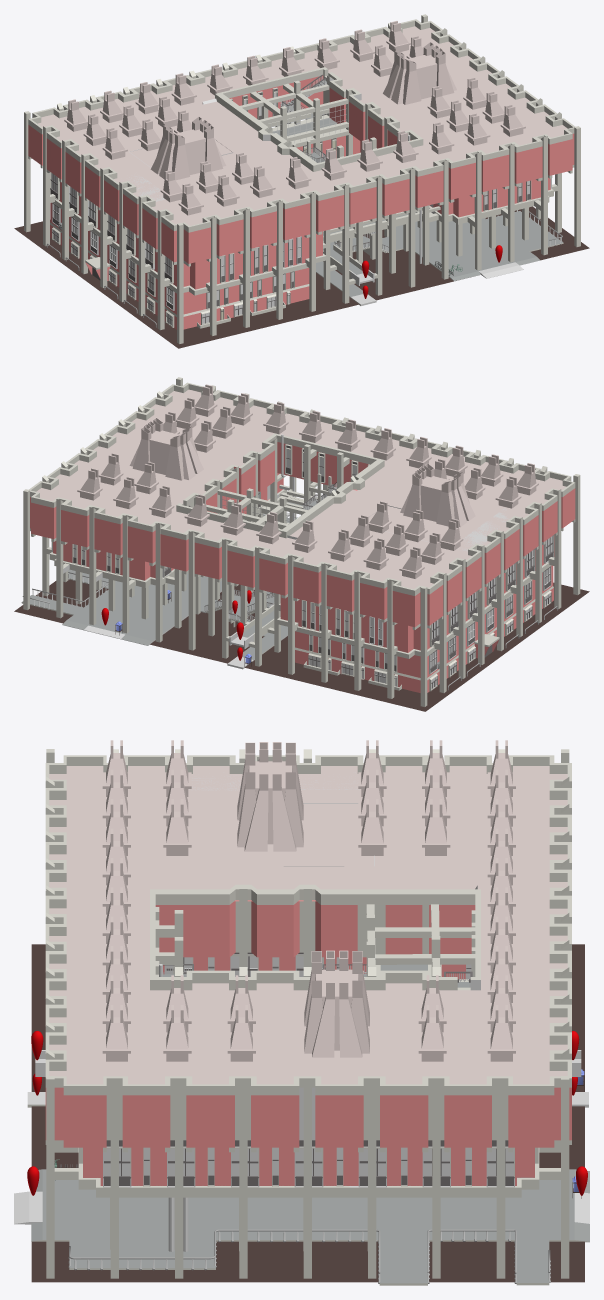
3 views of the same model, one above another, from view 1: azimuth 30°, elevation 25°; view 2: azimuth 150°, elevation 25°; view 3: azimuth 270°, elevation 25° (orthographic). The views are drawn at different scales.
Visible parts, largest first — view 1: Cube041, Second_Library, Ground_Library, First_Library, Basement_Library, Reflectors; view 2: Cube041, Second_Library, Ground_Library, First_Library, Basement_Library, Reflectors; view 3: Cube041, Second_Library, Ground_Library, First_Library, Reflectors, Entrance_2.
Boxes of the visible parts, left/top/right/bottom form: Cube041: left=24, top=14, right=580, bottom=343; Second_Library: left=28, top=19, right=575, bottom=266; Ground_Library: left=14, top=202, right=589, bottom=348; First_Library: left=50, top=114, right=553, bottom=295; Basement_Library: left=50, top=215, right=309, bottom=329; Reflectors: left=51, top=93, right=529, bottom=325; Cube041: left=23, top=377, right=580, bottom=706; Second_Library: left=29, top=382, right=575, bottom=629; Ground_Library: left=14, top=514, right=589, bottom=711; First_Library: left=49, top=473, right=554, bottom=658; Basement_Library: left=295, top=579, right=553, bottom=692; Reflectors: left=73, top=449, right=552, bottom=688; Cube041: left=46, top=740, right=569, bottom=1279; Second_Library: left=45, top=755, right=571, bottom=1152; Ground_Library: left=14, top=944, right=589, bottom=1285; First_Library: left=78, top=952, right=539, bottom=1197; Reflectors: left=104, top=956, right=513, bottom=1175; Entrance_2: left=14, top=1191, right=42, bottom=1223.
Bounding box in the file's own units: 520 × 183 × 371.
